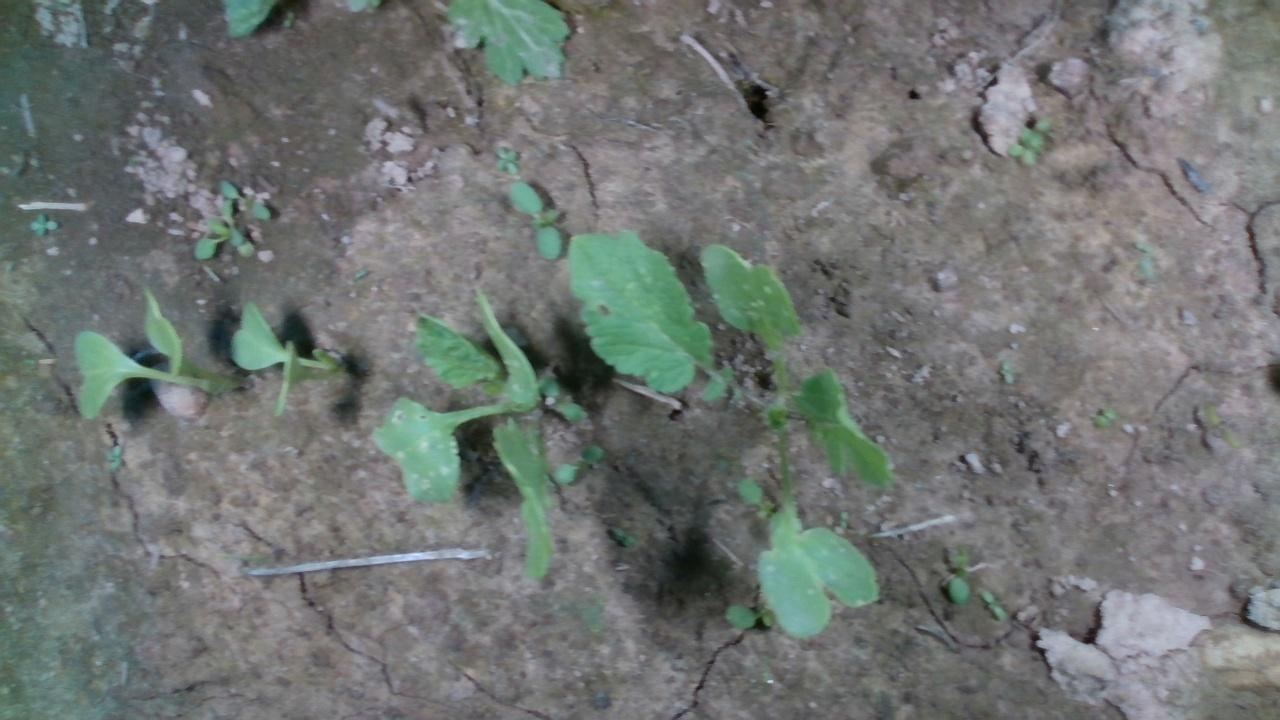weed: (503, 179, 562, 259), (979, 585, 1007, 621), (492, 144, 519, 175), (28, 210, 59, 237), (1091, 405, 1116, 428)
